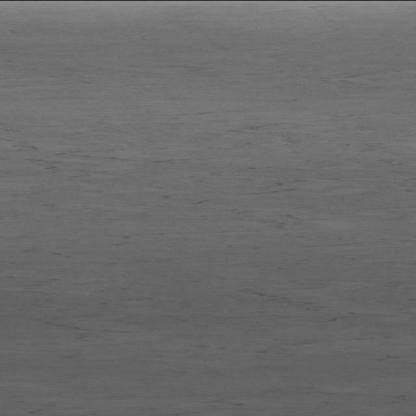silk_spot: (46, 103, 380, 340)
